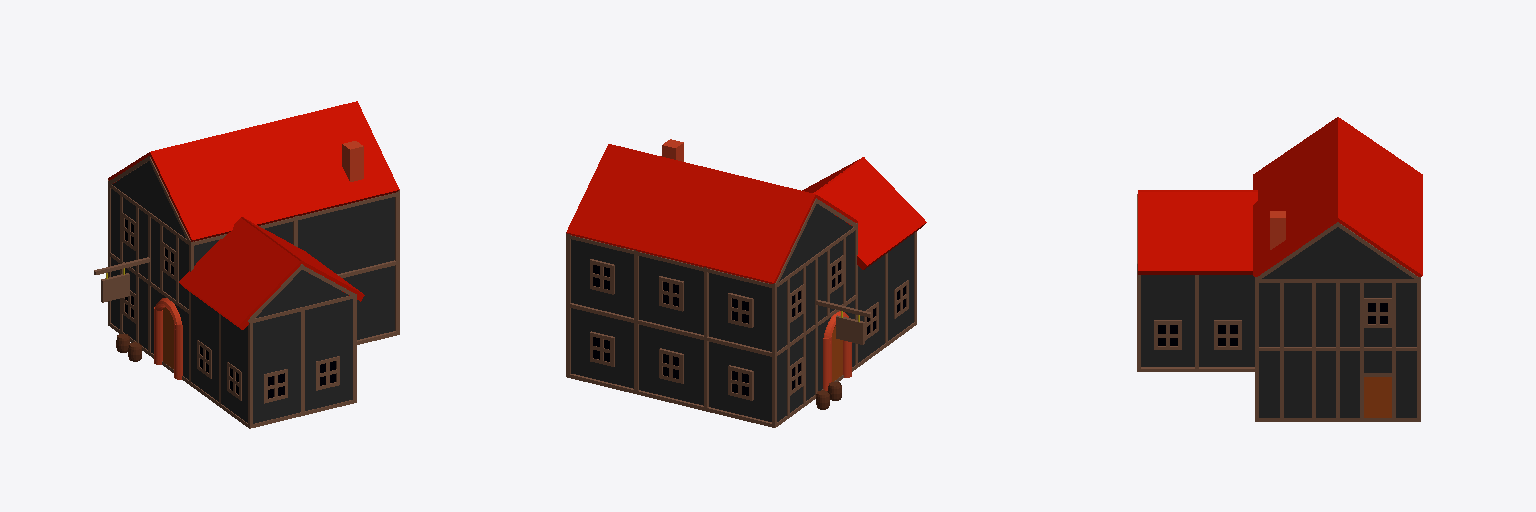
Rendered from timberframedinn.obj.
3 renders of one model, left to right at view 1: azimuth 30°, elevation 25°; view 2: azimuth 150°, elevation 25°; view 3: azimuth 270°, elevation 25°, orthographic.
Parts seen in each view (by area): view 1: Cube.007_Cube.011, Cube.005, Cube.054_Cube.057, Cube.067_Cube.072, Cylinder.001, Cube, Cube.006_Cube.010, Cube.066_Cube.071, Cube.065_Cube.070, Cube.012_Cube.017, Cube.073_Cube.078, Cube.018_Cube.016 (+1 smaller); view 2: Cube.005, Cube.007_Cube.011, Cube.067_Cube.072, Cube.054_Cube.057, Cube.023_Cube.026, Cube.022_Cube.025, Cylinder.001, Cube.021_Cube.024, Cube.020_Cube.023, Cube.015_Cube.020, Cube.008, Cube.019_Cube.022 (+7 smaller); view 3: Cube.005, Cube.007_Cube.011, Cube, Cube.054_Cube.057, Cube.003, Cube.033, Cube.009, Cube.004, Cube.031, Cube.032, Cube.027, Cube.012_Cube.017 (+8 smaller).
Boxes of the visible parts, <box> form: Cube.007_Cube.011: <box>108,101,399,241</box>; Cube.005: <box>111,161,394,379</box>; Cube.054_Cube.057: <box>191,270,352,423</box>; Cube.067_Cube.072: <box>179,217,305,329</box>; Cylinder.001: <box>154,298,182,379</box>; Cube: <box>241,217,364,301</box>; Cube.006_Cube.010: <box>342,141,363,181</box>; Cube.066_Cube.071: <box>264,369,287,403</box>; Cube.065_Cube.070: <box>316,356,339,390</box>; Cube.012_Cube.017: <box>395,190,399,334</box>; Cube.073_Cube.078: <box>101,273,129,302</box>; Cube.018_Cube.016: <box>191,193,395,245</box>; Cube.005: <box>571,204,854,421</box>; Cube.007_Cube.011: <box>566,144,857,283</box>; Cube.067_Cube.072: <box>813,157,926,269</box>; Cube.054_Cube.057: <box>858,234,913,362</box>; Cube.023_Cube.026: <box>567,374,771,426</box>; Cube.022_Cube.025: <box>567,303,771,356</box>; Cylinder.001: <box>823,311,851,390</box>; Cube.021_Cube.024: <box>567,235,771,287</box>; Cube.020_Cube.023: <box>728,365,753,400</box>; Cube.015_Cube.020: <box>728,293,753,327</box>; Cube.008: <box>590,259,614,294</box>; Cube.019_Cube.022: <box>659,348,683,383</box>; Cube.005: <box>1259,227,1416,417</box>; Cube.007_Cube.011: <box>1253,117,1422,276</box>; Cube: <box>1138,192,1257,274</box>; Cube.054_Cube.057: <box>1141,275,1254,366</box>; Cube.003: <box>1364,377,1391,417</box>; Cube.033: <box>1364,298,1391,327</box>; Cube.009: <box>1154,320,1181,349</box>; Cube.004: <box>1214,320,1241,349</box>; Cube.031: <box>1258,418,1417,421</box>; Cube.032: <box>1258,279,1416,282</box>; Cube.027: <box>1417,277,1420,421</box>; Cube.012_Cube.017: <box>1255,277,1258,421</box>.
Size of the model in its own units: 15.3 by 11.25 by 14.29.